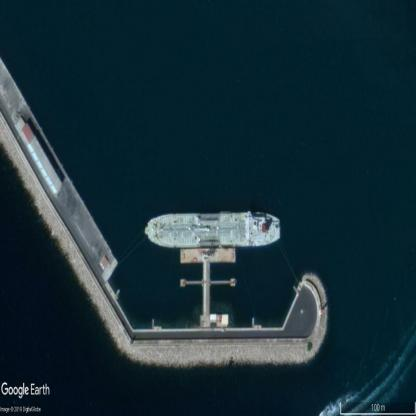ship: (144, 213, 281, 247)
